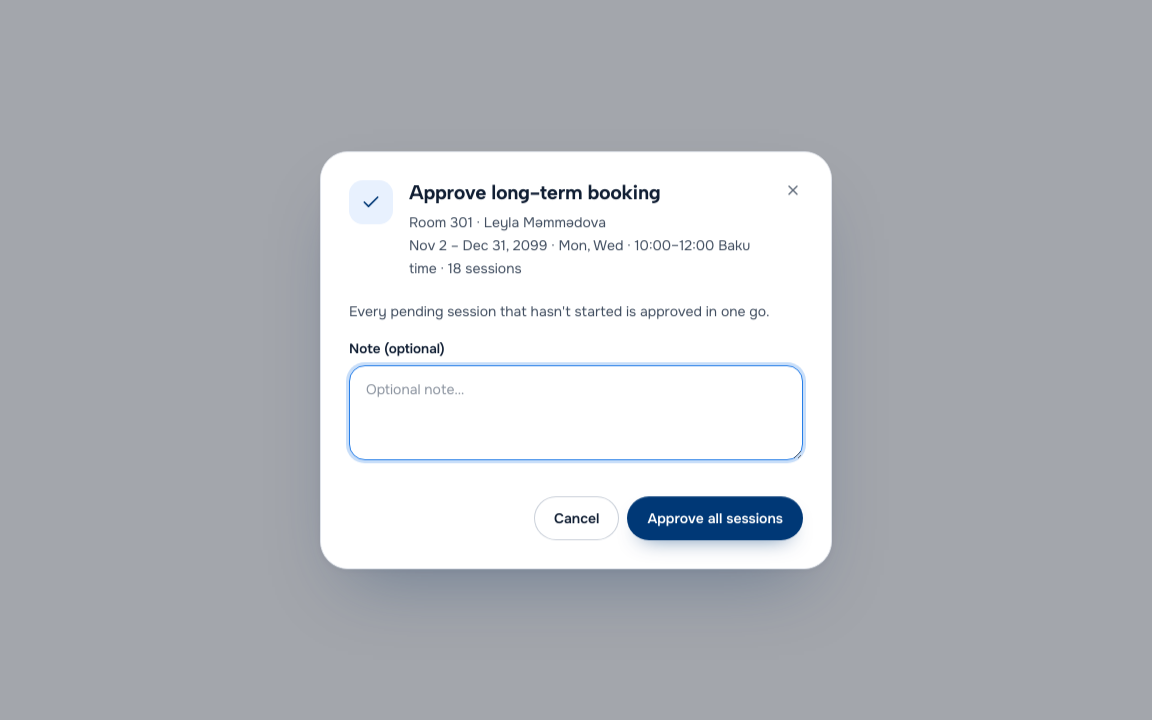
Test case: SeriesDecisionDialog › shows the conflicting dates of a refused approval and stays open
Click the button "Approve all sessions".
click(715, 518)  # box [627,496,803,540]
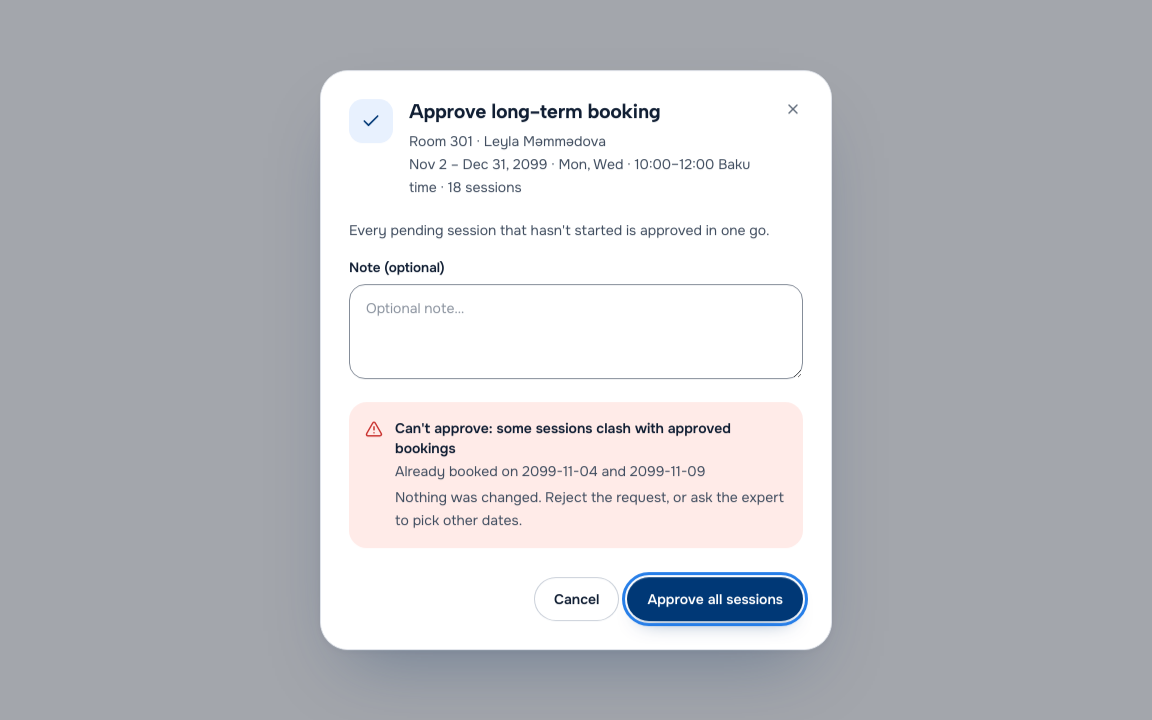
Expected: the text "Already booked on 2099-11-04 and 2099-11-09" is shown, [395,462,705,480]
Expected: the text "Nothing was changed" is shown, [395,488,784,529]
